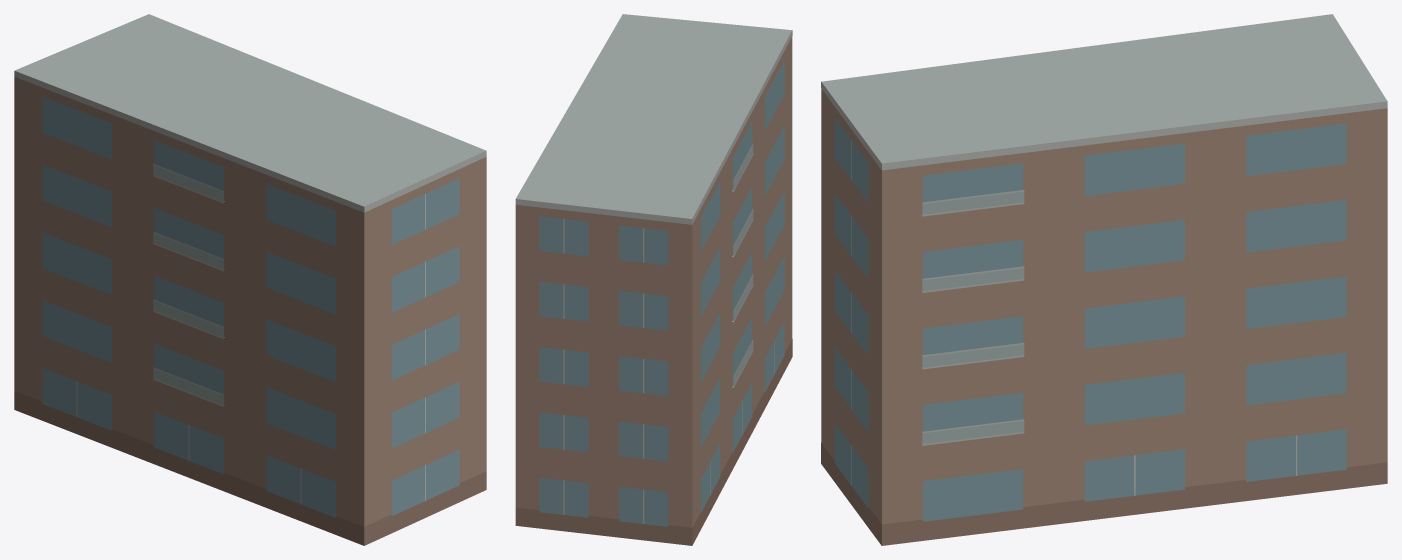
The model's file is survey-upis-32579377.glb.
3 views of the same model, side by side, from view 1: azimuth 30°, elevation 25°; view 2: azimuth 150°, elevation 25°; view 3: azimuth 270°, elevation 25° (orthographic). The views are drawn at different scales.
Visible parts, largest first — view 1: survey-upis-32579377.tmp; view 2: survey-upis-32579377.tmp; view 3: survey-upis-32579377.tmp.
Boxes of the visible parts, left/top/right/bottom form: survey-upis-32579377.tmp: left=14, top=14, right=486, bottom=545; survey-upis-32579377.tmp: left=515, top=14, right=792, bottom=545; survey-upis-32579377.tmp: left=821, top=14, right=1387, bottom=545.
Size of the model in its own units: 11.6 by 13.8 by 18.55.
